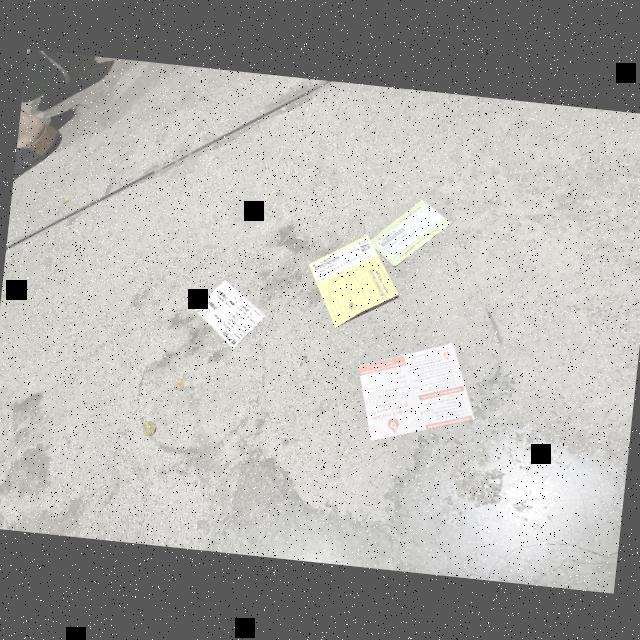scrap_paper: (350, 330, 490, 454), (298, 230, 407, 336), (188, 270, 272, 351), (370, 191, 456, 267)
